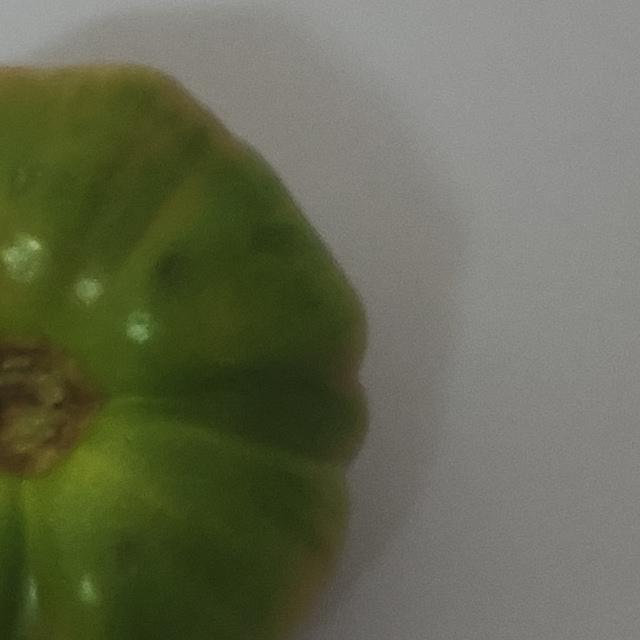tomato: (0, 44, 388, 640)
